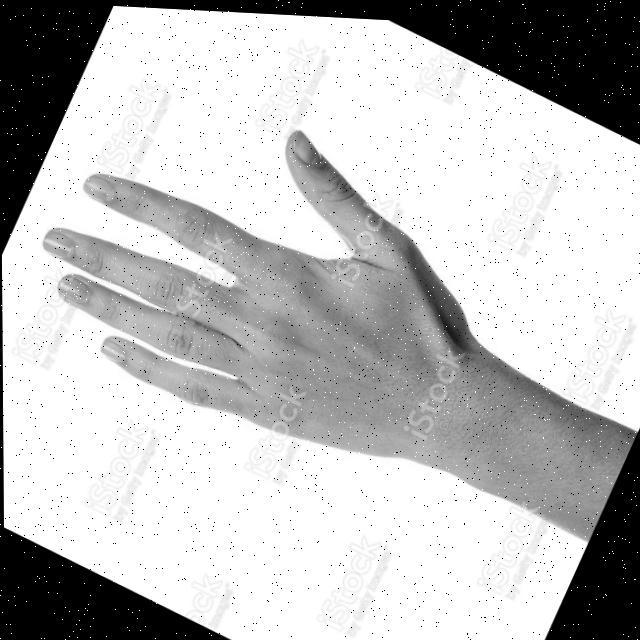no-gloves: (2, 37, 492, 497)
